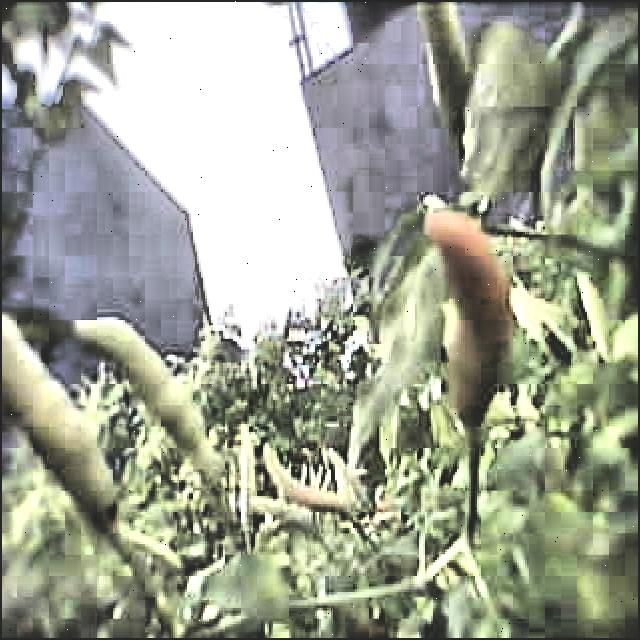Cabai: (432, 218, 513, 441)
